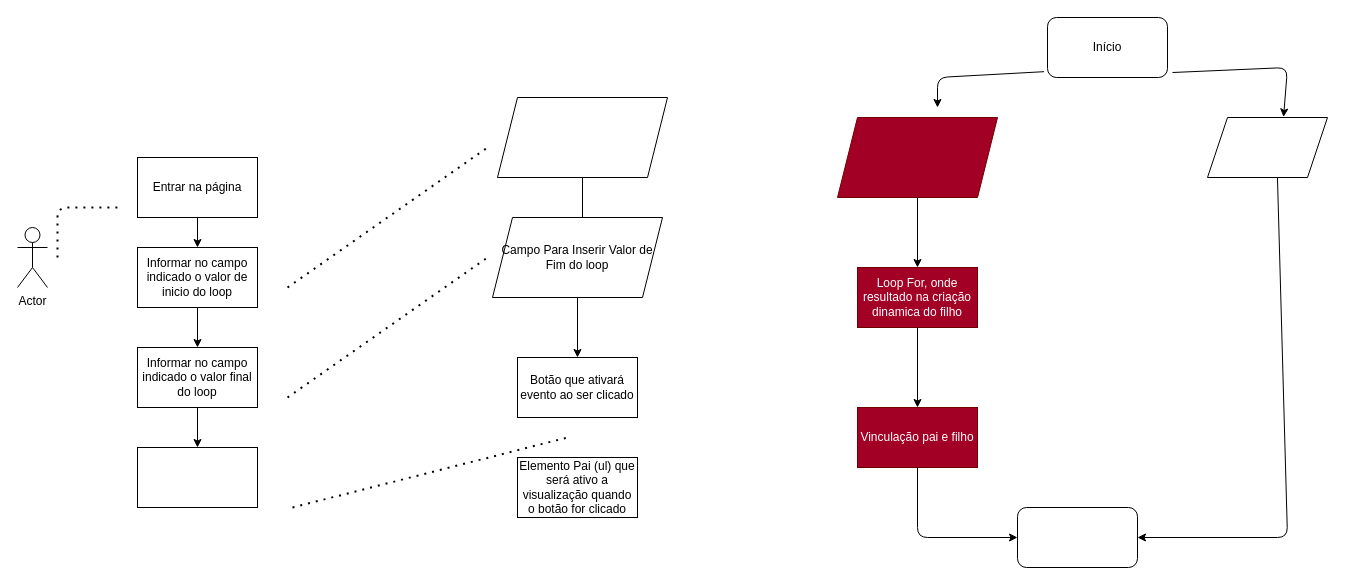
Image size: 1345x585. Some labels were removed from this diagram. The box of each missing label's shape, as (x1, y1, x2, y2) in pixels:
Atribuição Botão e Inclusão de Evento: (1206, 116, 1328, 178)
Atribuição valores de inicio e fim do loop e elemento pai: (836, 116, 998, 198)
Campo Para Inserir Valor de Inicio do loop: (496, 96, 668, 178)
Clicar no botão para visualizar o loop: (136, 446, 258, 508)
Fim: (1016, 506, 1138, 568)
